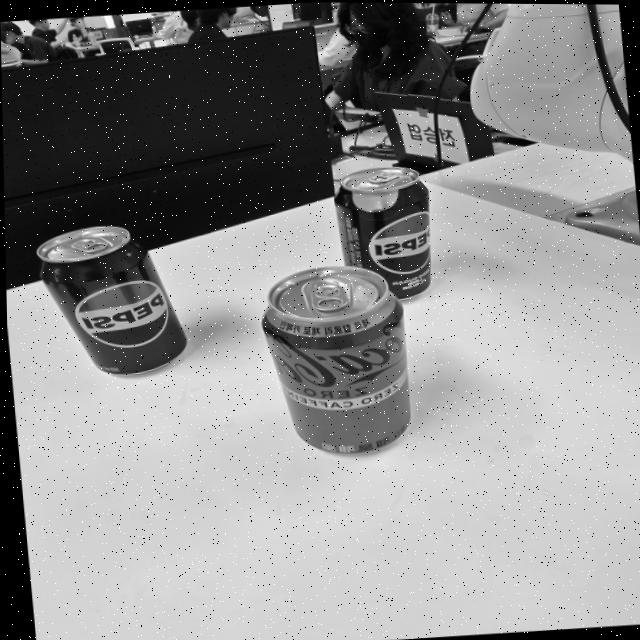can_coke_decaf: (257, 263, 412, 460)
can_pepsi: (31, 223, 190, 380)
can_pepsi_zero: (332, 165, 432, 303)
